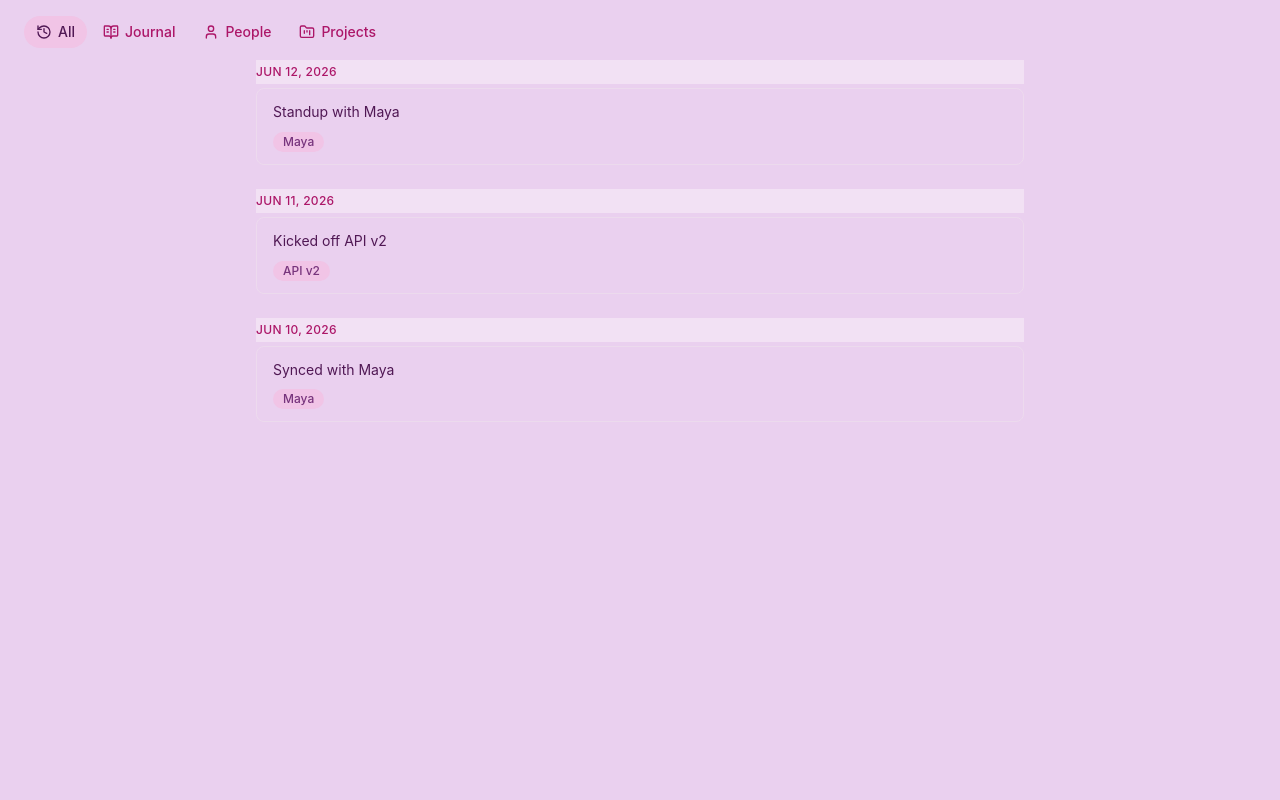
Test: TimelineView focus rail › clicking a person chip opens the rail; closing it clears the focus
This screenshot has width=1280, height=800.
Expected: the text "Synced with Maya" is shown, [273,360,394,378]
Expected: the text "interaction history" is not shown
# Clicking Maya's chip in the feed opens her focus rail.
Click the button "Maya" below "Standup with Maya": (299, 142) [273,132,324,152]
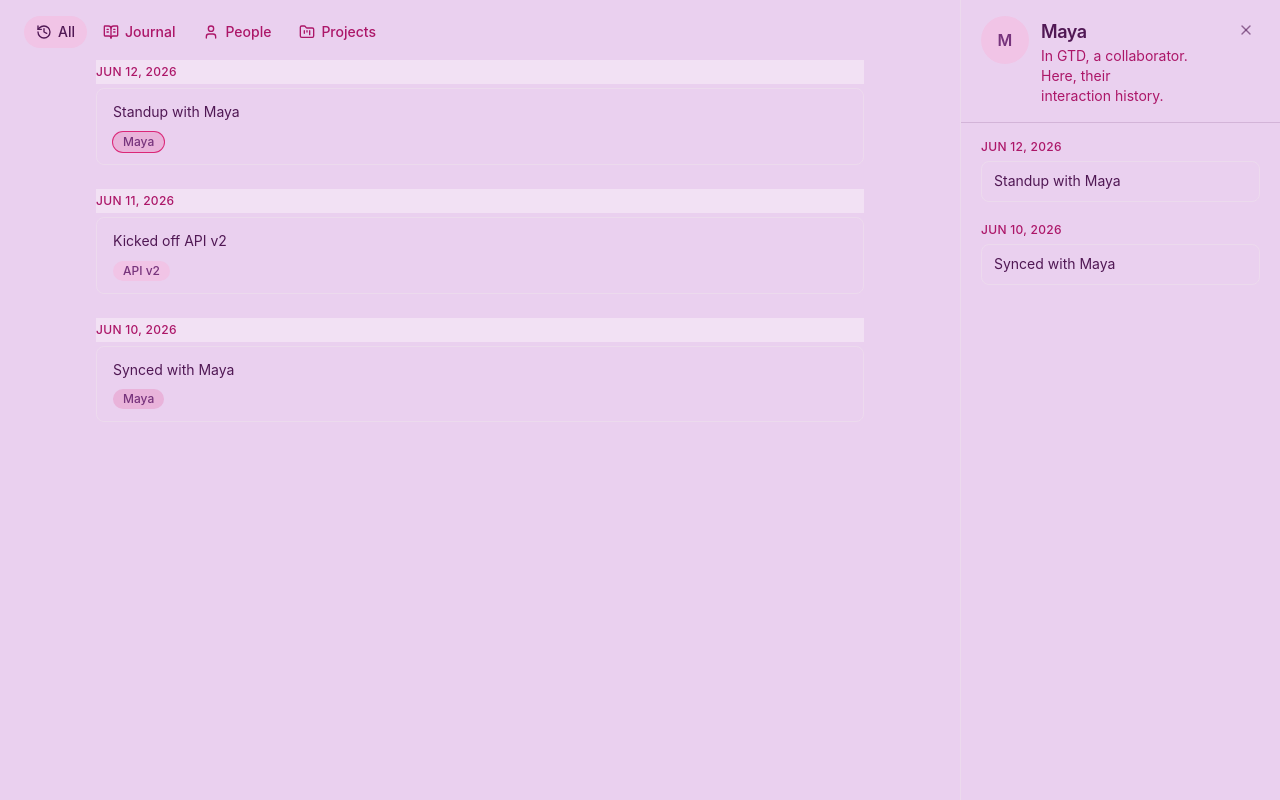
Expected: the text "In GTD, a collaborator. Here, their interaction history." is shown, [1041,47,1188,104]
Expected: the element "Maya" is shown, [961,0,1279,799]
# Closing the rail clears focus — the lens note is gone again.
Click the button named "close": (1246, 30) [1232,16,1260,44]
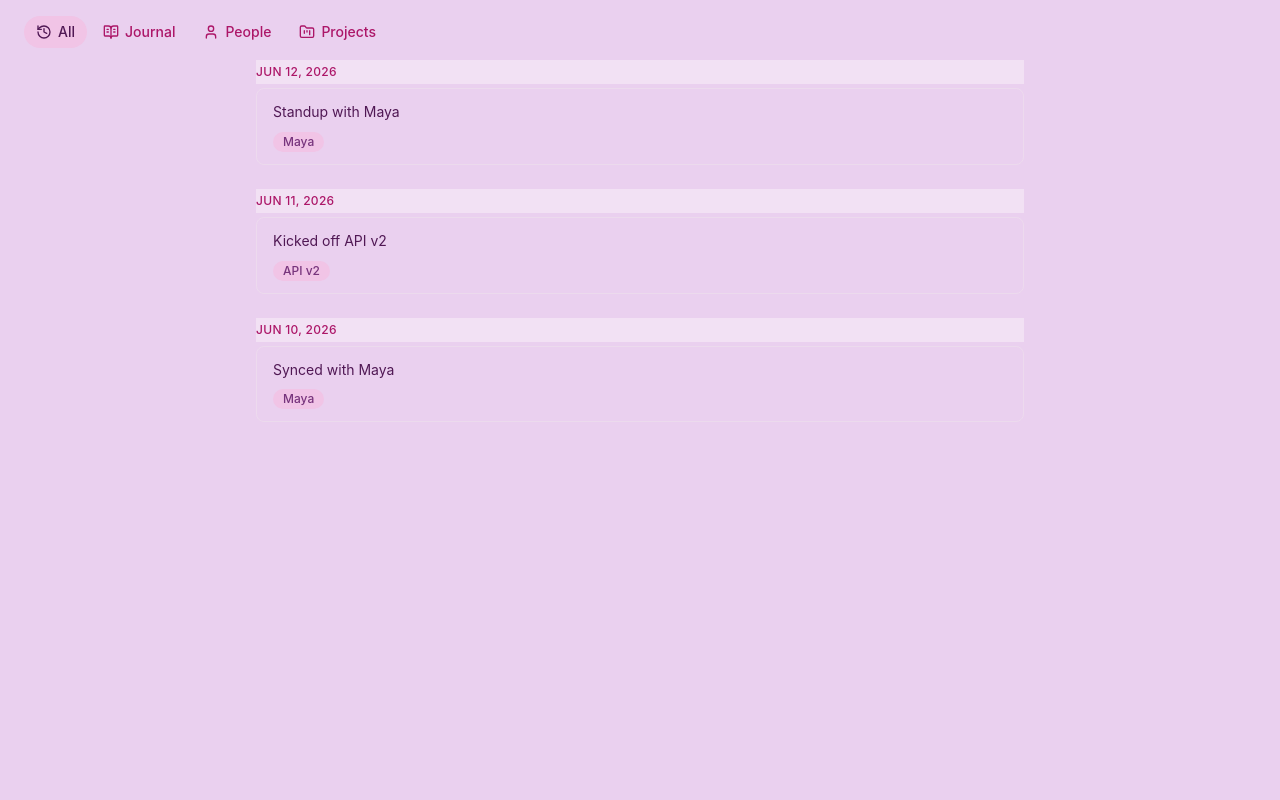
Expected: the text "interaction history" is gone
